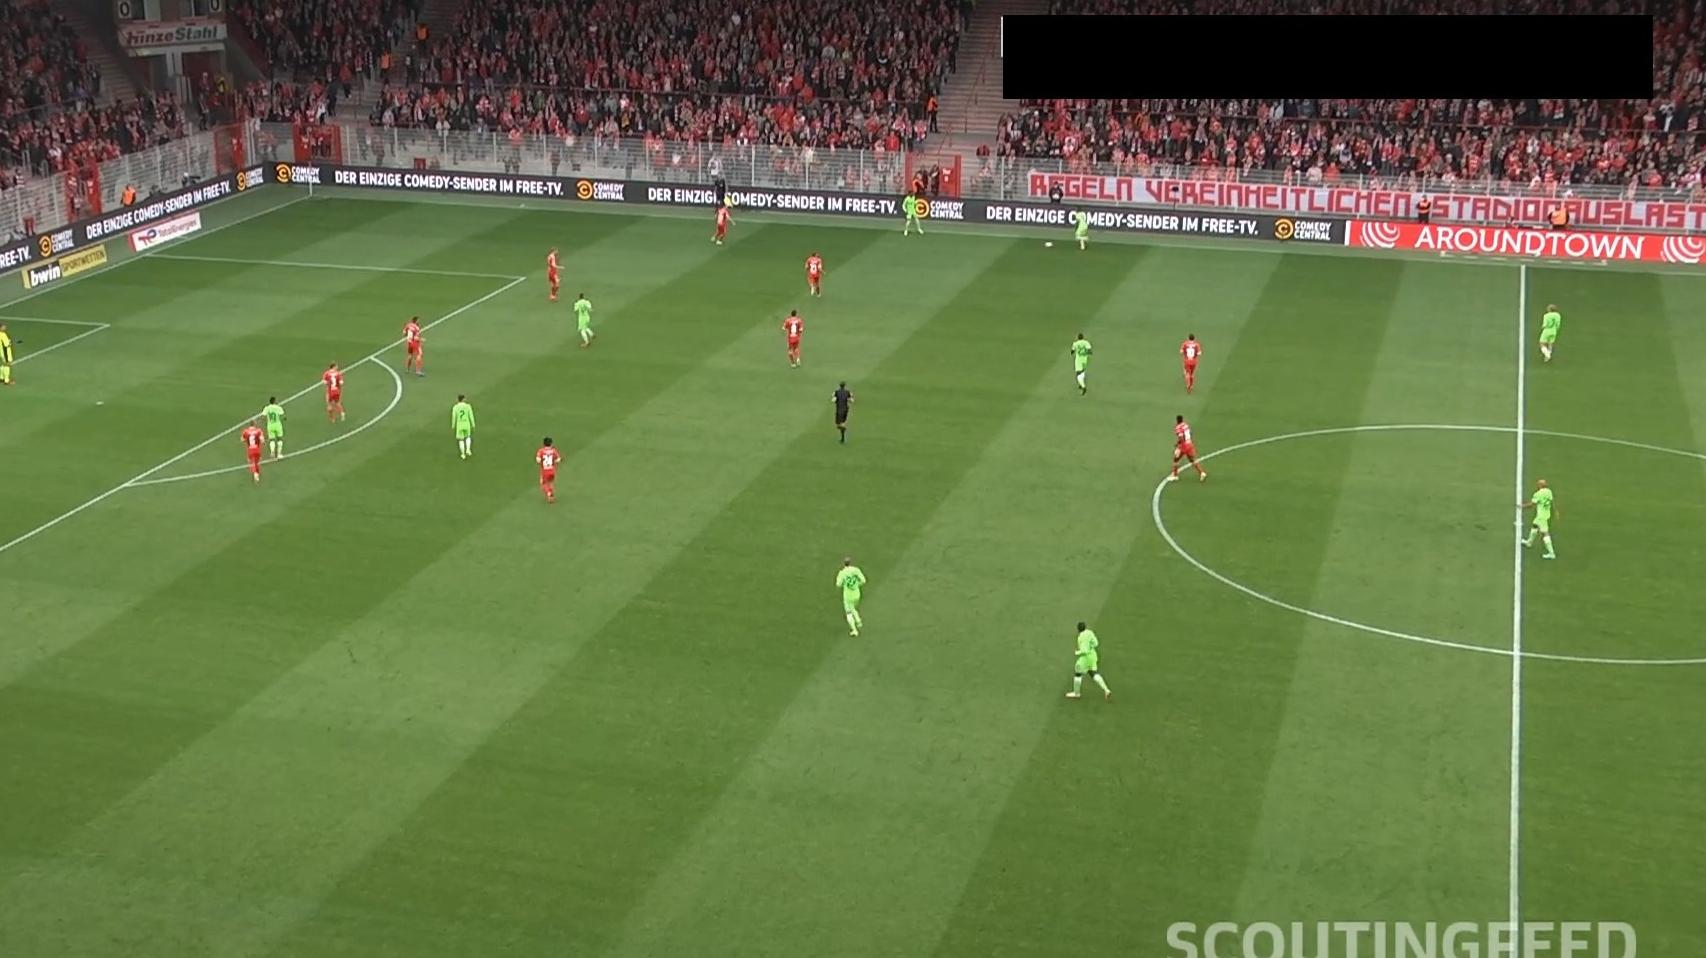ball: (1043, 239, 1055, 251)
